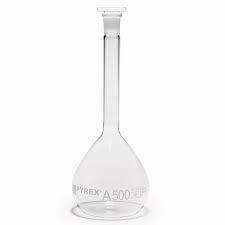Volumetric flask: (58, 11, 154, 213)
